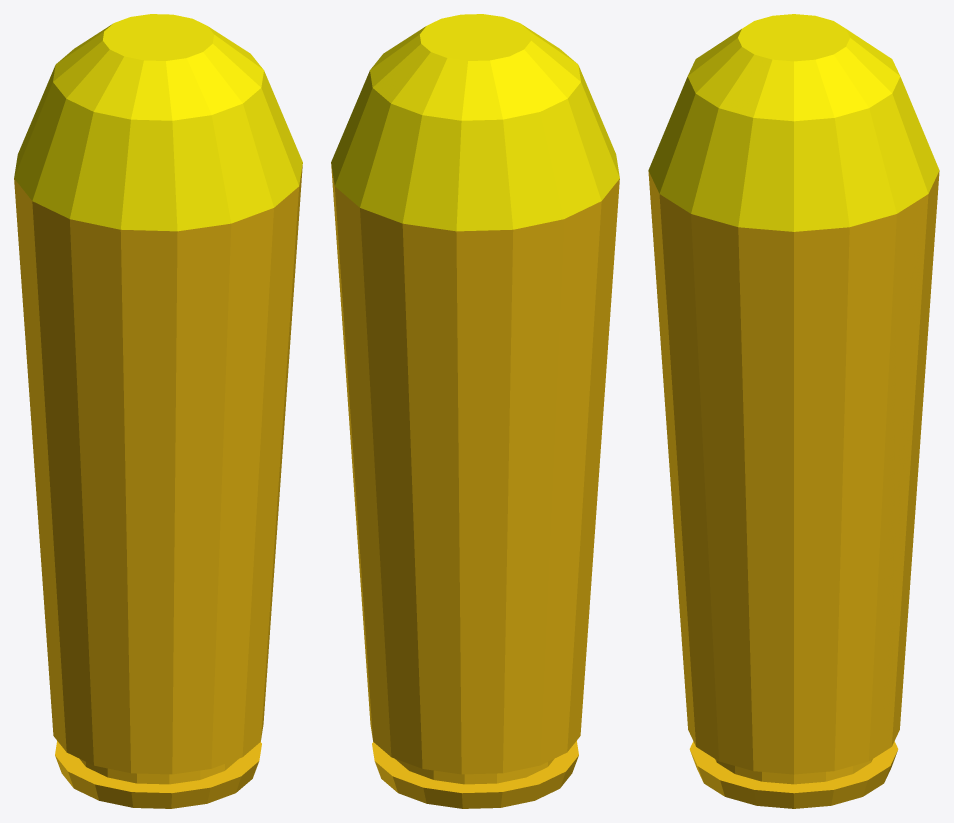
The model's file is bullet.fbx.
3 renders of one model, left to right at view 1: azimuth 30°, elevation 25°; view 2: azimuth 150°, elevation 25°; view 3: azimuth 270°, elevation 25°, orthographic.
Visible parts, largest first — view 1: bullet; view 2: bullet; view 3: bullet.
Boxes of the visible parts, x1,y1,x2,y2 form: bullet: (14,14,302,808); bullet: (331,14,619,808); bullet: (648,14,939,808).
Bounding box in the file's own units: 51.44 × 142 × 51.44.
